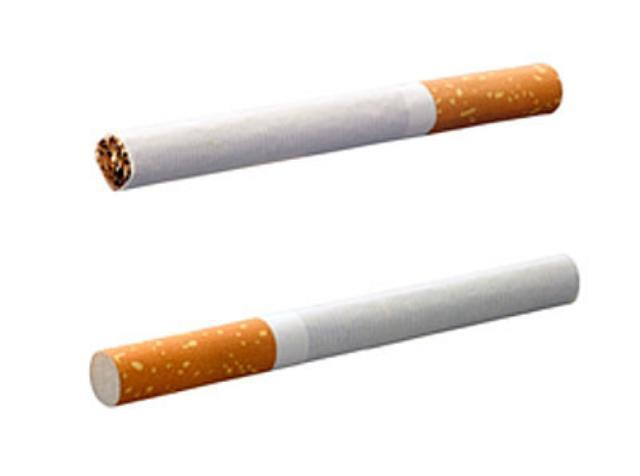Smoking: (88, 252, 582, 410), (96, 61, 564, 191)
